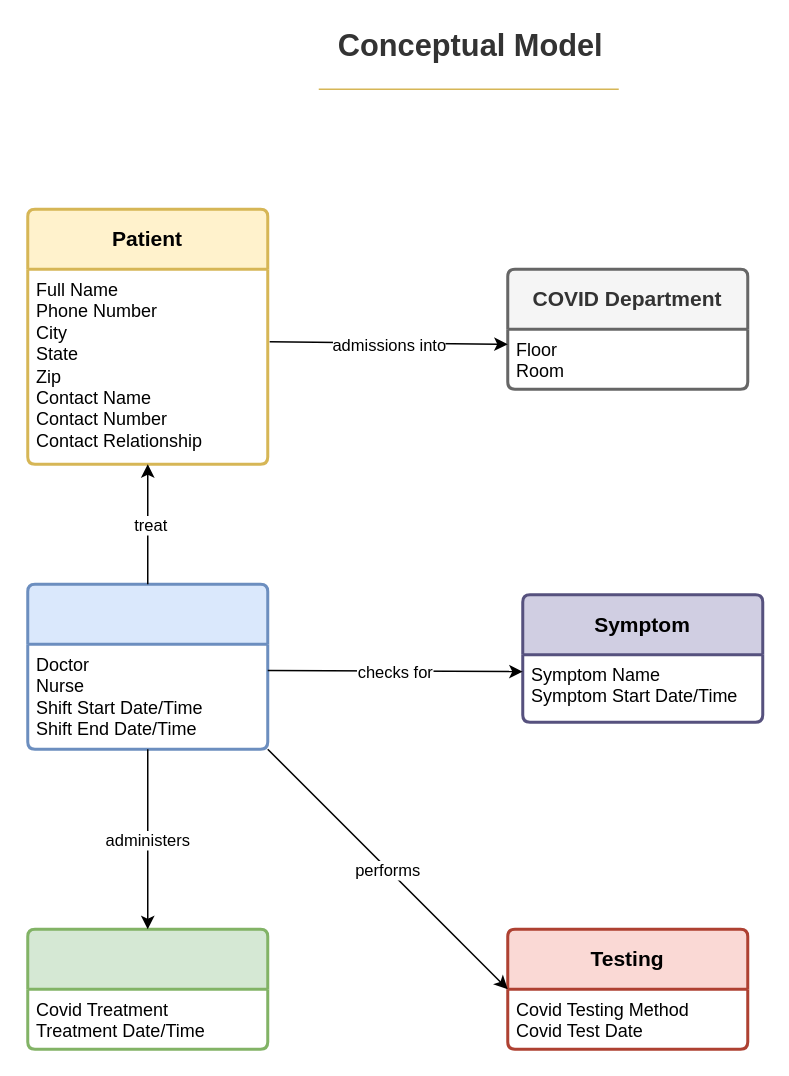
The diagram is 789 pixels wide and 1076 high, and some of its shapes have lost their labels. The box of each missing label's shape, as (x1, y1, x2, y2) in pixels:
Medical Professionals: (26, 582, 268, 750)
Treatments: (26, 927, 268, 1050)
